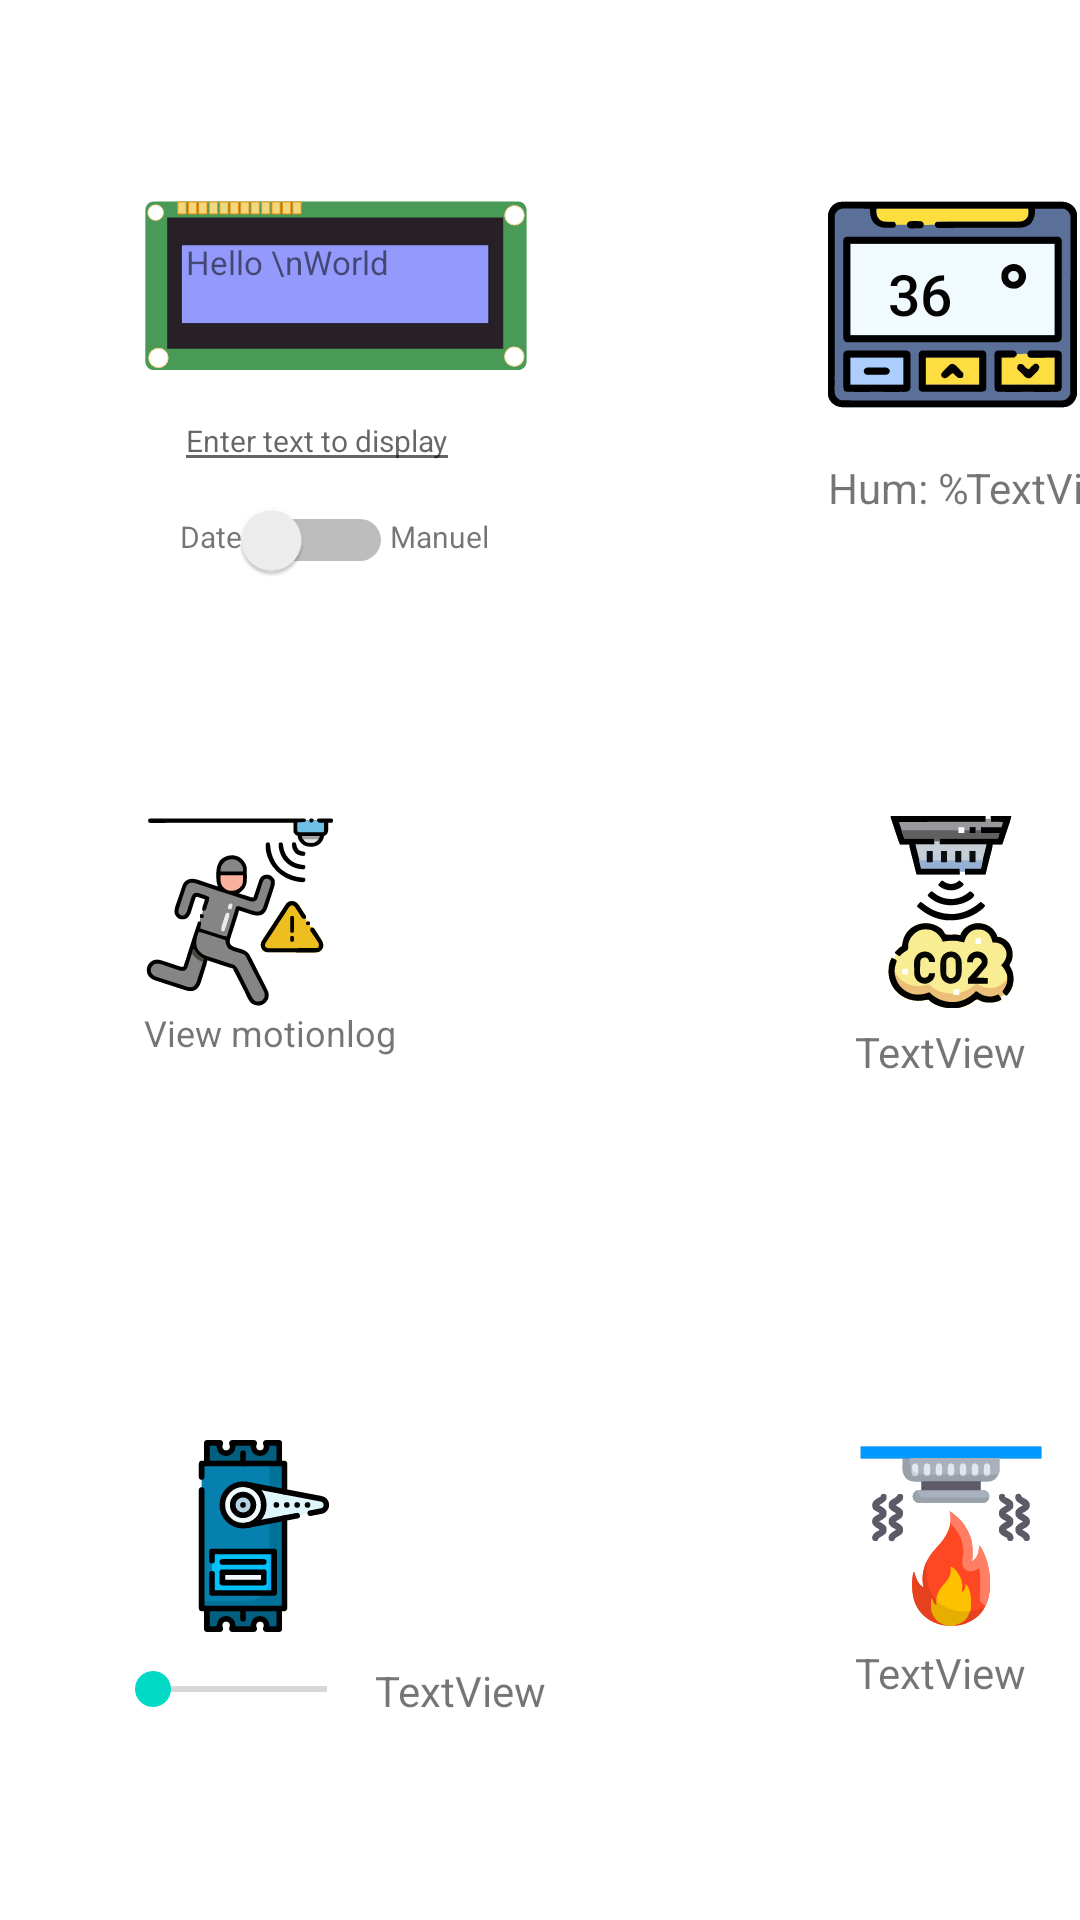

Where to tap for icons on this 1080px×1920px app screen, as point (x, y):
sensor co: point (951, 912)
sensor fire: point (951, 1536)
sensor motion: point (239, 912)
servo: point (263, 1536)
temperature control: point (952, 304)
